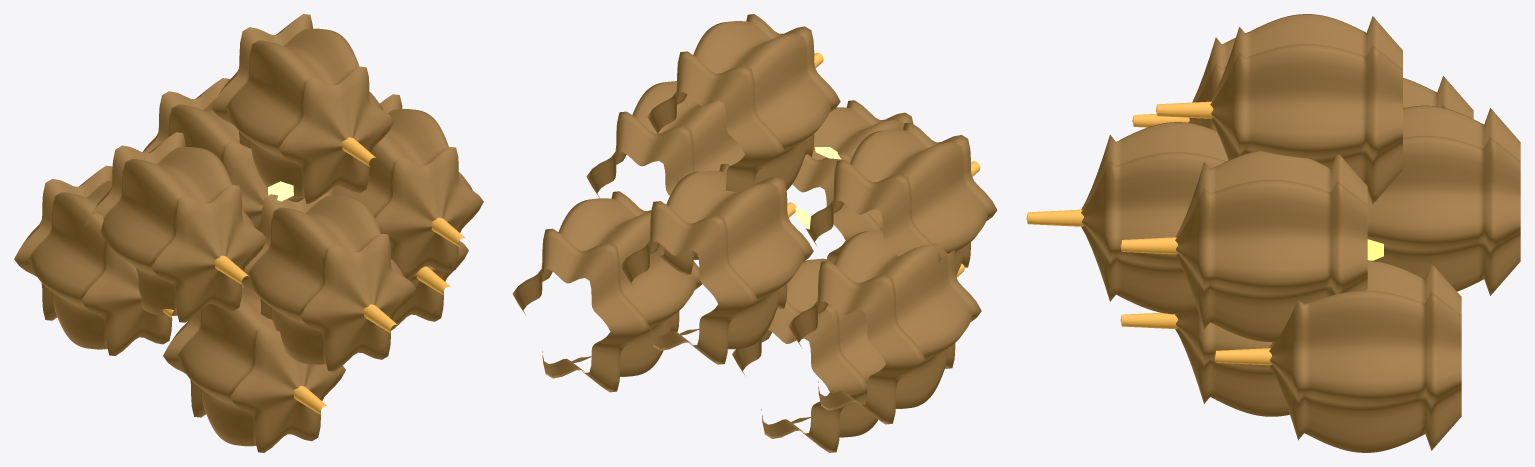
The model's file is mechanoids_swarm.glb.
3 renders of one model, left to right at view 1: azimuth 30°, elevation 25°; view 2: azimuth 150°, elevation 25°; view 3: azimuth 270°, elevation 25°, orthographic. The views are drawn at different scales.
Visible parts, largest first — view 1: mechanoids_swarm; view 2: mechanoids_swarm; view 3: mechanoids_swarm.
Boxes of the visible parts, x1,y1,x2,y2 form: mechanoids_swarm: (14,14,483,452); mechanoids_swarm: (512,14,997,452); mechanoids_swarm: (1026,14,1520,452).
Bounding box in the file's own units: 2.17 × 1.9 × 2.1.
